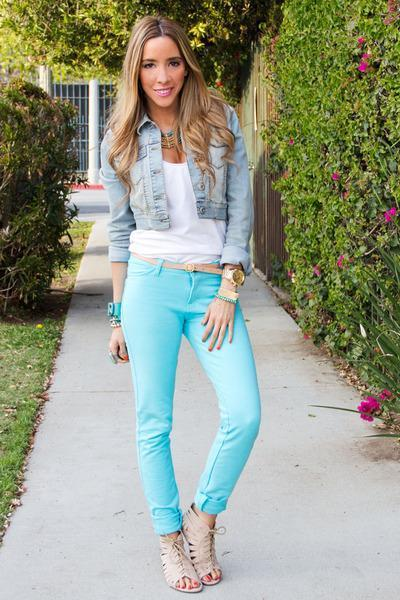jacket: (84, 125, 254, 268)
pants: (114, 257, 261, 535)
shirt: (132, 162, 238, 268)
shoe: (156, 507, 228, 581)
